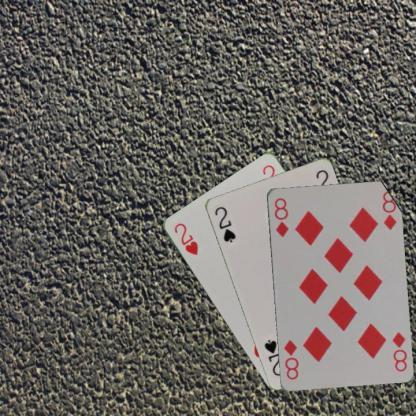2h: (171, 220, 199, 257)
2s: (211, 203, 237, 244)
8d: (389, 329, 408, 373), (272, 195, 290, 238)
